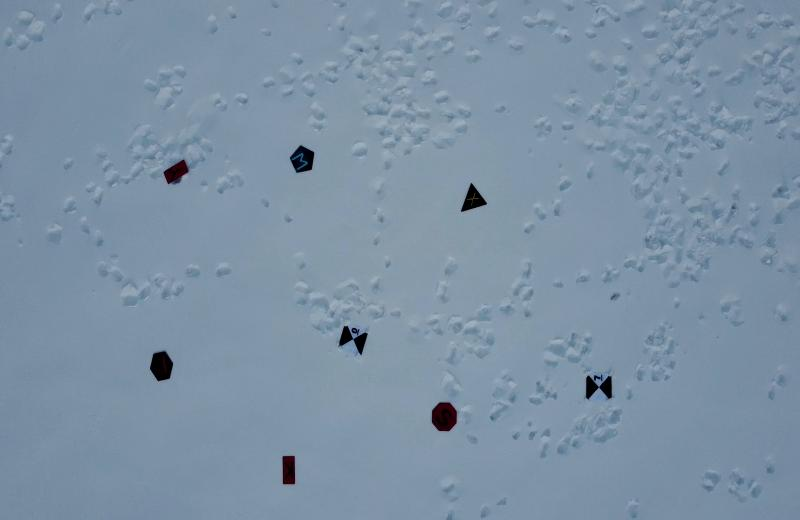Hexagon: (148, 348, 176, 384)
Octagon: (428, 400, 461, 435)
Pentagon: (287, 140, 318, 176)
Rectangle: (158, 157, 191, 185), (277, 451, 300, 488)
Triangle: (454, 180, 490, 218)
